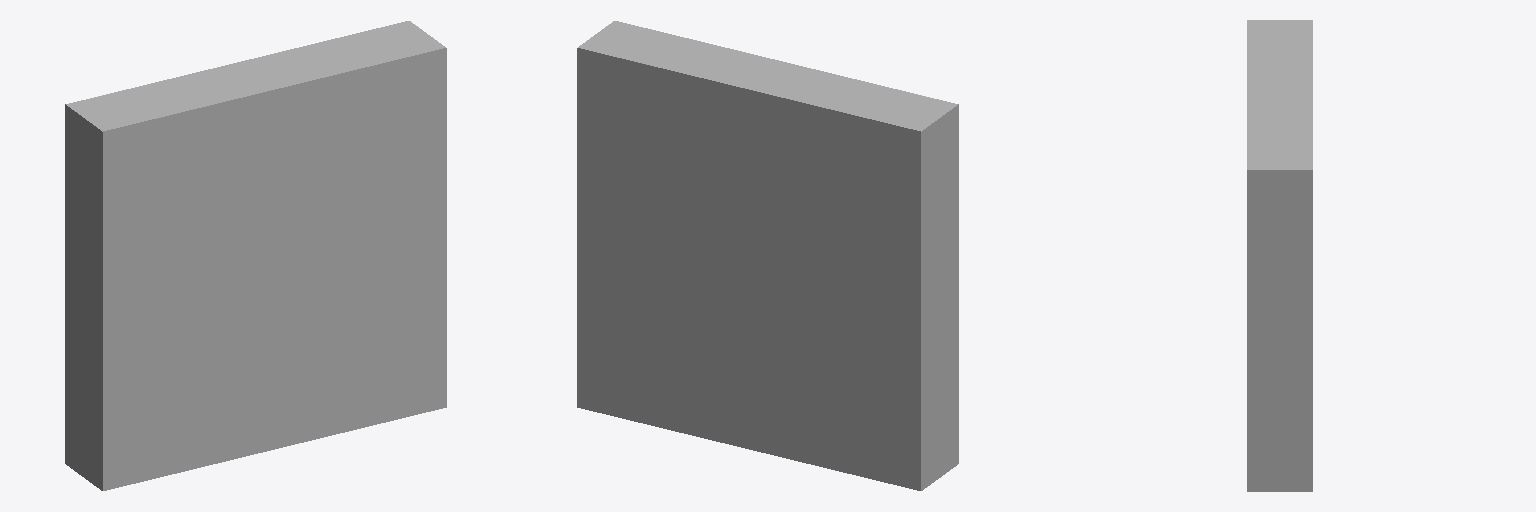
URDF robot description (ur5):
<?xml version="1.0" ?>
<!-- =================================================================================== -->
<!-- |    This document was autogenerated by xacro from ur5_joint_limited_robot.urdf.xacro | -->
<!-- |    EDITING THIS FILE BY HAND IS NOT RECOMMENDED                                 | -->
<!-- =================================================================================== -->
<robot name="ur5" xmlns:xacro="http://www.ros.org/wiki/xacro">
  <!-- common stuff -->
  <gazebo>
    <plugin filename="libgazebo_ros_controller_manager.so" name="gazebo_ros_controller_manager">
      <alwaysOn>true</alwaysOn>
      <updateRate>1000.0</updateRate>
    </plugin>
    <plugin filename="libgazebo_ros_power_monitor.so" name="gazebo_ros_power_monitor_controller">
      <alwaysOn>true</alwaysOn>
      <updateRate>1.0</updateRate>
      <timeout>5</timeout>
      <powerStateTopic>power_state</powerStateTopic>
      <powerStateRate>10.0</powerStateRate>
      <fullChargeCapacity>87.78</fullChargeCapacity>
      <dischargeRate>-474</dischargeRate>
      <chargeRate>525</chargeRate>
      <dischargeVoltage>15.52</dischargeVoltage>
      <chargeVoltage>16.41</chargeVoltage>
    </plugin>
  </gazebo>
  <!-- ur5 -->
  <material name="UR/Blue">
    <color rgba="0.0 0.0 0.8 1.0"/>
  </material>
  <material name="UR/Grey">
    <color rgba="0.7 0.7 0.7 1.0"/>
  </material>
  <!-- arm -->
  <link name="base_link">
    <visual>
      <geometry>
        <mesh filename="package://ur_description/meshes/ur5/visual/Base.dae"/>
      </geometry>
      <origin rpy="0.0 0.0 2.3561944875" xyz="0.0 0.0 0.003"/>
    </visual>
    <collision>
      <geometry>
        <mesh filename="package://ur_description/meshes/ur5/collision/Base.dae"/>
      </geometry>
      <!-- <origin rpy="0.0 0.0 0.0" xyz="0.0 0.0 -0.009159"/> -->
    </collision>
    <inertial>
      <mass value="4.0"/>
      <inertia ixx="1.0" ixy="0.0" ixz="0.0" iyy="1.0" iyz="0.0" izz="1.0"/>
    </inertial>
  </link>
  <joint name="shoulder_pan_joint" type="revolute">
    <parent link="base_link"/>
    <child link="shoulder_link"/>
    <origin rpy="0.0 0.0 0.0" xyz="0.0 0.0 0.089159"/>
    <axis xyz="0 0 1"/>
    <limit effort="150.0" lower="-3.14159265" upper="3.14159265" velocity="3.14159265"/>
    <dynamics damping="0.4" friction="0.0"/>
  </joint>
  <link name="shoulder_link">
    <visual>
      <geometry>
        <mesh filename="package://ur_description/meshes/ur5/visual/Shoulder.dae"/>
      </geometry>
    </visual>
    <collision>
      <geometry>
        <mesh filename="package://ur_description/meshes/ur5/collision/Shoulder.dae"/>
      </geometry>
      <!-- <origin rpy="0.0 0.0 0.0" xyz="0.0 0.0 -0.009159"/> -->
    </collision>
    <inertial>
      <mass value="3.7"/>
      <inertia ixx="1.0" ixy="0.0" ixz="0.0" iyy="1.0" iyz="0.0" izz="1.0"/>
      <origin rpy="0.0 0.0 0.0" xyz="0.0 0.00193 -0.02561"/>
    </inertial>
  </link>
  <joint name="shoulder_lift_joint" type="revolute">
    <parent link="shoulder_link"/>
    <child link="upper_arm_link"/>
    <origin rpy="0.0 1.570796325 0.0" xyz="0.0 0.13585 0.0"/>
    <axis xyz="0 1 0"/>
    <limit effort="150.0" lower="-3.14159265" upper="3.14159265" velocity="3.14159265"/>
    <dynamics damping="0.4" friction="0.0"/>
  </joint>
  <link name="upper_arm_link">
    <visual>
      <geometry>
        <mesh filename="package://ur_description/meshes/ur5/visual/UpperArm.dae"/>
      </geometry>
      <origin rpy="0.0 0.0 0.0" xyz="0.0 0.0 0.0"/>
    </visual>
    <collision>
      <geometry>
        <mesh filename="package://ur_description/meshes/ur5/collision/UpperArm.dae"/>
      </geometry>
      <!--       <origin rpy="0.0 0.0 0.0" xyz="0.0 0.0 0.2125"/> -->
    </collision>
    <inertial>
      <mass value="8.393"/>
      <inertia ixx="1.0" ixy="0.0" ixz="0.0" iyy="1.0" iyz="0.0" izz="1.0"/>
      <origin rpy="0.0 0.0 0.0" xyz="0.0 -0.024201 0.2125"/>
    </inertial>
  </link>
  <joint name="elbow_joint" type="revolute">
    <parent link="upper_arm_link"/>
    <child link="forearm_link"/>
    <origin rpy="0.0 0.0 0.0" xyz="0.0 -0.1197 0.425"/>
    <axis xyz="0 1 0"/>
    <limit effort="150.0" lower="-3.14159265" upper="3.14159265" velocity="3.14159265"/>
    <dynamics damping="0.4" friction="0.0"/>
  </joint>
  <link name="forearm_link">
    <visual>
      <geometry>
        <mesh filename="package://ur_description/meshes/ur5/visual/Forearm.dae"/>
      </geometry>
    </visual>
    <collision>
      <geometry>
        <mesh filename="package://ur_description/meshes/ur5/collision/Forearm.dae"/>
      </geometry>
      <!--       <origin rpy="0.0 0.0 0.0" xyz="0.0 0.0 0.196125"/> -->
    </collision>
    <inertial>
      <mass value="2.275"/>
      <origin rpy="0.0 0.0 0.0" xyz="0.0 0.0265 0.11993"/>
      <inertia ixx="1.0" ixy="0.0" ixz="0.0" iyy="1.0" iyz="0.0" izz="1.0"/>
    </inertial>
  </link>
  <joint name="wrist_1_joint" type="revolute">
    <parent link="forearm_link"/>
    <child link="wrist_1_link"/>
    <origin rpy="0.0 1.570796325 0.0" xyz="0.0 0.0 0.39225"/>
    <axis xyz="0 1 0"/>
    <limit effort="28.0" lower="-3.14159265" upper="0.7853981625" velocity="3.14159265"/>
    <dynamics damping="0.3" friction="0.0"/>
  </joint>
  <link name="wrist_1_link">
    <visual>
      <geometry>
        <mesh filename="package://ur_description/meshes/ur5/visual/Wrist1.dae"/>
      </geometry>
      <origin rpy="0.0 1.570796325 0.0" xyz="0.0 0.093 0.0"/>
    </visual>
    <collision>
      <geometry>
        <mesh filename="package://ur_description/meshes/ur5/collision/Wrist1.dae"/>
      </geometry>
      <origin rpy="0.0 1.570796325 0.0" xyz="0.0 0.093 0.0"/>
    </collision>
    <inertial>
      <mass value="1.219"/>
      <origin rpy="0.0 0.0 0.0" xyz="0.0 0.110949 0.01634"/>
      <inertia ixx="1.0" ixy="0.0" ixz="0.0" iyy="1.0" iyz="0.0" izz="1.0"/>
    </inertial>
  </link>
  <joint name="wrist_2_joint" type="revolute">
    <parent link="wrist_1_link"/>
    <child link="wrist_2_link"/>
    <origin rpy="0.0 0.0 0.0" xyz="0.0 0.093 0.0"/>
    <axis xyz="0 0 1"/>
    <limit effort="28.0" lower="-3.14159265" upper="3.14159265" velocity="3.14159265"/>
    <dynamics damping="0.3" friction="0.0"/>
  </joint>
  <link name="wrist_2_link">
    <visual>
      <geometry>
        <mesh filename="package://ur_description/meshes/ur5/visual/Wrist2.dae"/>
      </geometry>
      <origin rpy="0.0 0.0 0.0" xyz="0.0 0.0 0.09465"/>
    </visual>
    <collision>
      <geometry>
        <mesh filename="package://ur_description/meshes/ur5/collision/Wrist2.dae"/>
      </geometry>
      <origin rpy="0.0 0.0 0.0" xyz="0.0 0.0 0.09465"/>
    </collision>
    <inertial>
      <mass value="1.219"/>
      <origin rpy="0.0 0.0 0.0" xyz="0.0 0.0018 0.11099"/>
      <inertia ixx="1.0" ixy="0.0" ixz="0.0" iyy="1.0" iyz="0.0" izz="1.0"/>
    </inertial>
  </link>
  <joint name="wrist_3_joint" type="revolute">
    <parent link="wrist_2_link"/>
    <child link="wrist_3_link"/>
    <origin rpy="0.0 0.0 0.0" xyz="0.0 0.0 0.09465"/>
    <axis xyz="0 1 0"/>
    <limit effort="28.0" lower="-3.14159265" upper="3.14159265" velocity="3.14159265"/>
    <dynamics damping="0.3" friction="0.0"/>
  </joint>
  <link name="wrist_3_link">
    <visual>
      <geometry>
        <mesh filename="package://ur_description/meshes/ur5/visual/Wrist3.dae"/>
      </geometry>
    </visual>
    <collision>
      <geometry>
        <mesh filename="package://ur_description/meshes/ur5/collision/Wrist3.dae"/>
      </geometry>
    </collision>
    <inertial>
      <mass value="0.1879"/>
      <origin rpy="0.0 0.0 0.0" xyz="0.0 0.001159 0.0"/>
      <inertia ixx="1.0" ixy="0.0" ixz="0.0" iyy="1.0" iyz="0.0" izz="1.0"/>
    </inertial>
  </link>
  <joint name="ee_fixed_joint" type="fixed">
    <parent link="wrist_3_link"/>
    <child link="robotiq_85_adapter_link"/>
    <origin rpy="0.0 0.0 1.570796325" xyz="0.0 0.0823 0.0"/>
  </joint>
  <!-- <link name="ee_link"/> -->







  <link name="robotiq_85_adapter_link">
<!--     <inertial>
      <mass value="10"/>
      <origin xyz="0 0 0" rpy="0 0 0"/>
      <inertia ixx="1" ixy="0" ixz="0" iyy="1" iyz="0" izz="1"/>
    </inertial>
    <visual>
      <geometry>
        <mesh filename="package://robotiq_c_model_visualization/meshes/robotiq_85_gripper_adapter_plate.dae"/>
      </geometry>
      <origin rpy="1.5707 0 1.5707" xyz="0 0 0"/>
    </visual> -->
    <inertial>
      <mass value="10"/>
      <origin xyz="0 0 0" rpy="0 0 0"/>
      <inertia ixx="1" ixy="0" ixz="0" iyy="1" iyz="0" izz="1"/>
    </inertial>
    <visual>
      <geometry>
        <box size="0.064 0.064 0.012"/>
      </geometry>
      <material name="silver">
        <color rgba="0.7529 0.7529 0.7529 1"/>
      </material>
      <origin rpy="1.5707 0 1.5707" xyz="0 0 0"/>
    </visual>
  </link>

  <!--  /\  -->
  <joint name="robotiq_85_base_joint" type="fixed">
    <parent link="robotiq_85_adapter_link"/>
    <child link="robotiq_85_base_link"/>
    <axis xyz="1 0 0"/>
    <origin rpy="0 0 0" xyz=".0085 0 -.0041"/>
  </joint>
  <!--  \/  -->

  <link name="robotiq_85_base_link">
    <inertial>
      <mass value="10"/>
      <origin xyz="0 0 0" rpy="0 0 0"/>
      <inertia ixx="1" ixy="0" ixz="0" iyy="1" iyz="0" izz="1"/>
    </inertial>
    <visual>
      <geometry>
        <mesh filename="package://robotiq_c_model_visualization/meshes/robotiq_85_gripper_base.dae"/>
      </geometry>
      <origin rpy="3.1415 0 1.5707" xyz="0 0 0"/>
    </visual>
  </link>

  <!--  /\  -->
  <!--  /\  -->
  <joint name="robotiq_85_left_knuckle_joint" type="revolute">
    <parent link="robotiq_85_base_link"/>
    <child link="robotiq_85_left_knuckle_link"/>
    <axis xyz="1 0 0"/>
    <origin rpy="-1.5707 1.5707 0" xyz=".04191 .0306 0"/>
    <limit lower="0" upper=".8575" velocity="2.0" effort="1000"/>
  </joint>

  <joint name="robotiq_85_right_knuckle_joint" type="revolute">
    <parent link="robotiq_85_base_link"/>
    <child link="robotiq_85_right_knuckle_link"/>
    <axis xyz="1 0 0"/>
    <origin rpy="1.5707 -1.5707 0" xyz=".04191 -.0306 0"/>
    <limit lower="0" upper="1.5707" velocity="2.0" effort="1000"/>
    <mimic joint="robotiq_85_left_knuckle_joint" multiplier="1"/>
  </joint>
  <!--  \/  -->
  <!--  \/  -->

  <link name="robotiq_85_left_knuckle_link">
    <inertial>
      <mass value="10"/>
      <origin xyz="0 0 0" rpy="0 0 0"/>
      <inertia ixx="1" ixy="0" ixz="0" iyy="1" iyz="0" izz="1"/>
    </inertial>
    <visual>
      <geometry>
        <mesh filename="package://robotiq_c_model_visualization/meshes/robotiq_85_gripper_joint_0_L.dae"/>
      </geometry>
      <origin rpy="3.14159 -1.5707 0" xyz="0 .04191 -.0306"/>
    </visual>
  </link> 

  <link name="robotiq_85_right_knuckle_link">
    <inertial>
      <mass value="10"/>
      <origin xyz="0 0 0" rpy="0 0 0"/>
      <inertia ixx="1" ixy="0" ixz="0" iyy="1" iyz="0" izz="1"/>
    </inertial>
    <visual>
      <geometry>
        <mesh filename="package://robotiq_c_model_visualization/meshes/robotiq_85_gripper_joint_0_R.dae"/>
      </geometry>
      <origin rpy="3.14159 1.5707 0" xyz="0 .04191 -.0306"/>
    </visual>
  </link>

  <!--  /\  -->
  <!--  /\  -->
  <joint name="robotiq_85_left_finger_joint" type="fixed">
    <parent link="robotiq_85_left_knuckle_link"/>
    <child link="robotiq_85_left_finger_link"/>
    <axis xyz="1 0 0"/>
    <origin rpy="3.1415 0 0" xyz="0 .00508 .03134"/>
    <limit lower="0" upper="1.5707" velocity="2.0" effort="1000"/>
  </joint>

  <joint name="robotiq_85_right_finger_joint" type="fixed">
    <parent link="robotiq_85_right_knuckle_link"/>
    <child link="robotiq_85_right_finger_link"/>
    <axis xyz="1 0 0"/>
    <origin rpy="3.1415 0 0" xyz="0 .00508 .03134"/>
    <limit lower="0" upper="1.5707" velocity="2.0" effort="1000"/>
  </joint>
  <!--  \/  --> 
  <!--  \/  -->  

  <link name="robotiq_85_left_finger_link">
    <inertial>
      <mass value="10"/>
      <origin xyz="0 0 0" rpy="0 0 0"/>
      <inertia ixx="1" ixy="0" ixz="0" iyy="1" iyz="0" izz="1"/>
    </inertial>
    <visual>
      <geometry>
        <mesh filename="package://robotiq_c_model_visualization/meshes/robotiq_85_gripper_joint_1_L.dae"/>
      </geometry>
      <origin rpy="0 1.5707 0" xyz="0 -.03683 .06194"/>
    </visual>
  </link> 

  <link name="robotiq_85_right_finger_link">
    <inertial>
      <mass value="10"/>
      <origin xyz="0 0 0" rpy="0 0 0"/>
      <inertia ixx="1" ixy="0" ixz="0" iyy="1" iyz="0" izz="1"/>
    </inertial>
    <visual>
      <geometry>
        <mesh filename="package://robotiq_c_model_visualization/meshes/robotiq_85_gripper_joint_1_R.dae"/>
      </geometry>
      <origin rpy="0 -1.5707 0" xyz="0 -.03683 .06194"/>
    </visual>
  </link> 

  <!--  /\  -->
  <!--  /\  -->
  <joint name="robotiq_85_left_inner_knuckle_joint" type="revolute">
    <parent link="robotiq_85_base_link"/>
    <child link="robotiq_85_left_inner_knuckle_link"/>
    <axis xyz="1 0 0"/>
    <origin rpy="1.5707 1.5707 0" xyz=".04843 .0127 0"/>
    <limit lower="0" upper="1.5707" velocity="2.0" effort="1000"/>
    <mimic joint="robotiq_85_left_knuckle_joint" offset="0"/>
  </joint> 

  <joint name="robotiq_85_right_inner_knuckle_joint" type="revolute">
    <parent link="robotiq_85_base_link"/>
    <child link="robotiq_85_right_inner_knuckle_link"/>
    <axis xyz="1 0 0"/>
    <origin rpy="-1.5707 -1.5707 0" xyz=".04843 -.0127 0"/>
    <limit lower="0" upper="1.5707" velocity="2.0" effort="1000"/>
    <mimic joint="robotiq_85_left_knuckle_joint" offset="0"/>
  </joint>
  <!--  \/  --> 
  <!--  \/  -->  

  <link name="robotiq_85_left_inner_knuckle_link">
    <inertial>
      <mass value="10"/>
      <origin xyz="0 0 0" rpy="0 0 0"/>
      <inertia ixx="1" ixy="0" ixz="0" iyy="1" iyz="0" izz="1"/>
    </inertial>
    <visual>
      <geometry>
        <mesh filename="package://robotiq_c_model_visualization/meshes/robotiq_85_gripper_joint_2_L.dae"/>
      </geometry>
      <origin rpy="0 1.5707 0" xyz="0 -.04843 .0127"/>
    </visual>
  </link>

  <link name="robotiq_85_right_inner_knuckle_link">
    <inertial>
      <mass value="10"/>
      <origin xyz="0 0 0" rpy="0 0 0"/>
      <inertia ixx="1" ixy="0" ixz="0" iyy="1" iyz="0" izz="1"/>
    </inertial>
    <visual>
      <geometry>
        <mesh filename="package://robotiq_c_model_visualization/meshes/robotiq_85_gripper_joint_2_R.dae"/>
      </geometry>
      <origin rpy="0 -1.5707 0" xyz="0 -.04843 .0127"/>
    </visual>
  </link>

  <!--  /\  -->
  <!--  /\  -->
  <joint name="robotiq_85_left_finger_tip_joint" type="revolute">
    <parent link="robotiq_85_left_inner_knuckle_link"/>
    <child link="robotiq_85_left_finger_tip_link"/>
    <axis xyz="1 0 0"/>
    <origin rpy="0 0 0" xyz="0 .04196 -.0388"/>
    <limit lower="0" upper="1.5707" velocity="2.0" effort="1000"/>
    <mimic joint="robotiq_85_left_knuckle_joint" multiplier="-1"/>
  </joint>

  <joint name="robotiq_85_right_finger_tip_joint" type="revolute">
    <parent link="robotiq_85_right_inner_knuckle_link"/>
    <child link="robotiq_85_right_finger_tip_link"/>
    <axis xyz="1 0 0"/>
    <origin rpy="0 0 0" xyz="0 .04196 -.0388"/>
    <limit lower="0" upper="1.5707" velocity="2.0" effort="1000"/>
    <mimic joint="robotiq_85_left_knuckle_joint" multiplier="-1"/>
  </joint>
  <!--  \/  --> 
  <!--  \/  -->  

  <link name="robotiq_85_left_finger_tip_link">
    <inertial>
      <mass value="10"/>
      <origin xyz="0 0 0" rpy="0 0 0"/>
      <inertia ixx="1" ixy="0" ixz="0" iyy="1" iyz="0" izz="1"/>
    </inertial>
    <visual>
      <geometry>
        <mesh filename="package://robotiq_c_model_visualization/meshes/robotiq_85_gripper_joint_3_L.dae"/>
      </geometry>
      <origin rpy="0 1.5707 0" xyz="0 -.090381 .051505"/>
    </visual>
  </link> 

  <link name="robotiq_85_right_finger_tip_link">
    <inertial>
      <mass value="10"/>
      <origin xyz="0 0 0" rpy="0 0 0"/>
      <inertia ixx="1" ixy="0" ixz="0" iyy="1" iyz="0" izz="1"/>
    </inertial>
    <visual>
      <geometry>
        <mesh filename="package://robotiq_c_model_visualization/meshes/robotiq_85_gripper_joint_3_R.dae"/>
      </geometry>
      <origin rpy="0 -1.5707 0" xyz="0 -.090381 .051505"/>
    </visual>
  </link>





  <transmission name="shoulder_pan_trans">
    <type>transmission_interface/SimpleTransmission</type>
    <joint name="shoulder_pan_joint"/>
    <actuator name="shoulder_pan_motor">
      <hardwareInterface>EffortJointInterface</hardwareInterface>
      <mechanicalReduction>1</mechanicalReduction>
    </actuator>
  </transmission>
  <transmission name="shoulder_lift_trans">
    <type>transmission_interface/SimpleTransmission</type>
    <joint name="shoulder_lift_joint"/>
    <actuator name="shoulder_lift_motor">
      <hardwareInterface>EffortJointInterface</hardwareInterface>
      <mechanicalReduction>1</mechanicalReduction>
    </actuator>
  </transmission>
  <transmission name="elbow_trans">
    <type>transmission_interface/SimpleTransmission</type>
    <joint name="elbow_joint"/>
    <actuator name="elbow_motor">
      <hardwareInterface>EffortJointInterface</hardwareInterface>
      <mechanicalReduction>1</mechanicalReduction>
    </actuator>
  </transmission>
  <transmission name="wrist_1_trans">
    <type>transmission_interface/SimpleTransmission</type>
    <joint name="wrist_1_joint"/>
    <actuator name="wrist_1_motor">
      <hardwareInterface>EffortJointInterface</hardwareInterface>
      <mechanicalReduction>1</mechanicalReduction>
    </actuator>
  </transmission>
  <transmission name="wrist_2_trans">
    <type>transmission_interface/SimpleTransmission</type>
    <joint name="wrist_2_joint"/>
    <actuator name="wrist_2_motor">
      <hardwareInterface>EffortJointInterface</hardwareInterface>
      <mechanicalReduction>1</mechanicalReduction>
    </actuator>
  </transmission>
  <transmission name="wrist_3_trans">
    <type>transmission_interface/SimpleTransmission</type>
    <joint name="wrist_3_joint"/>
    <actuator name="wrist_3_motor">
      <hardwareInterface>EffortJointInterface</hardwareInterface>
      <mechanicalReduction>1</mechanicalReduction>
    </actuator>
  </transmission>
  <gazebo reference="universal_robot">
    <material>Gazebo/Blue</material>
  </gazebo>
</robot>

--- What the picture shows (computed from the rendered views, not written in the file) ---
Views: 3 orthographic renders of the robot side by side, from view 1: azimuth 30°, elevation 25°; view 2: azimuth 150°, elevation 25°; view 3: azimuth 270°, elevation 25°.
Model ur5 with 17 links and 16 joints (12 revolute, 4 fixed), rooted at base_link, posed every joint at zero.
Visible links, largest first — view 1: robotiq_85_adapter_link; view 2: robotiq_85_adapter_link; view 3: robotiq_85_adapter_link.
Link boxes in pixels (bbox=[...]): robotiq_85_adapter_link: bbox=[65, 21, 446, 490]; robotiq_85_adapter_link: bbox=[577, 21, 958, 490]; robotiq_85_adapter_link: bbox=[1247, 20, 1312, 491].
Size in the robot's own frame: 0.064 by 0.012 by 0.064 metres.
0 mesh visuals loaded from 16 distinct referenced files (none loaded); not drawn: 16 (reference not matched to a file when rendering).